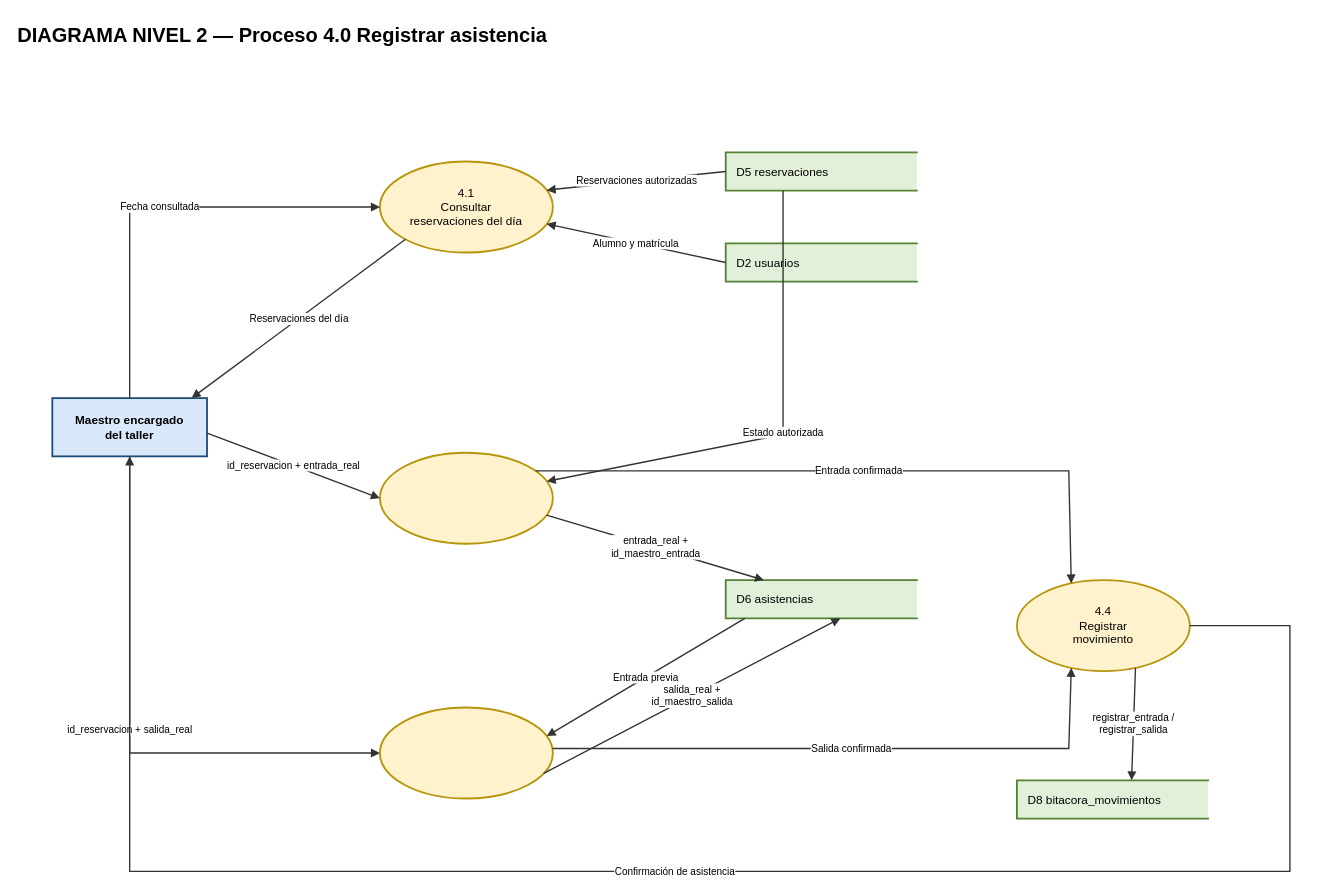
The diagram is 1323 pixels wide and 895 high, and some of its shapes have lost their labels. The shapes that lost their labels are listed below. From the top down, each one's centre as x and y in pixels, then its label:
At pixel 466 497: "4.2 Registrar entrada real".
At pixel 466 752: "4.3 Registrar salida real".
